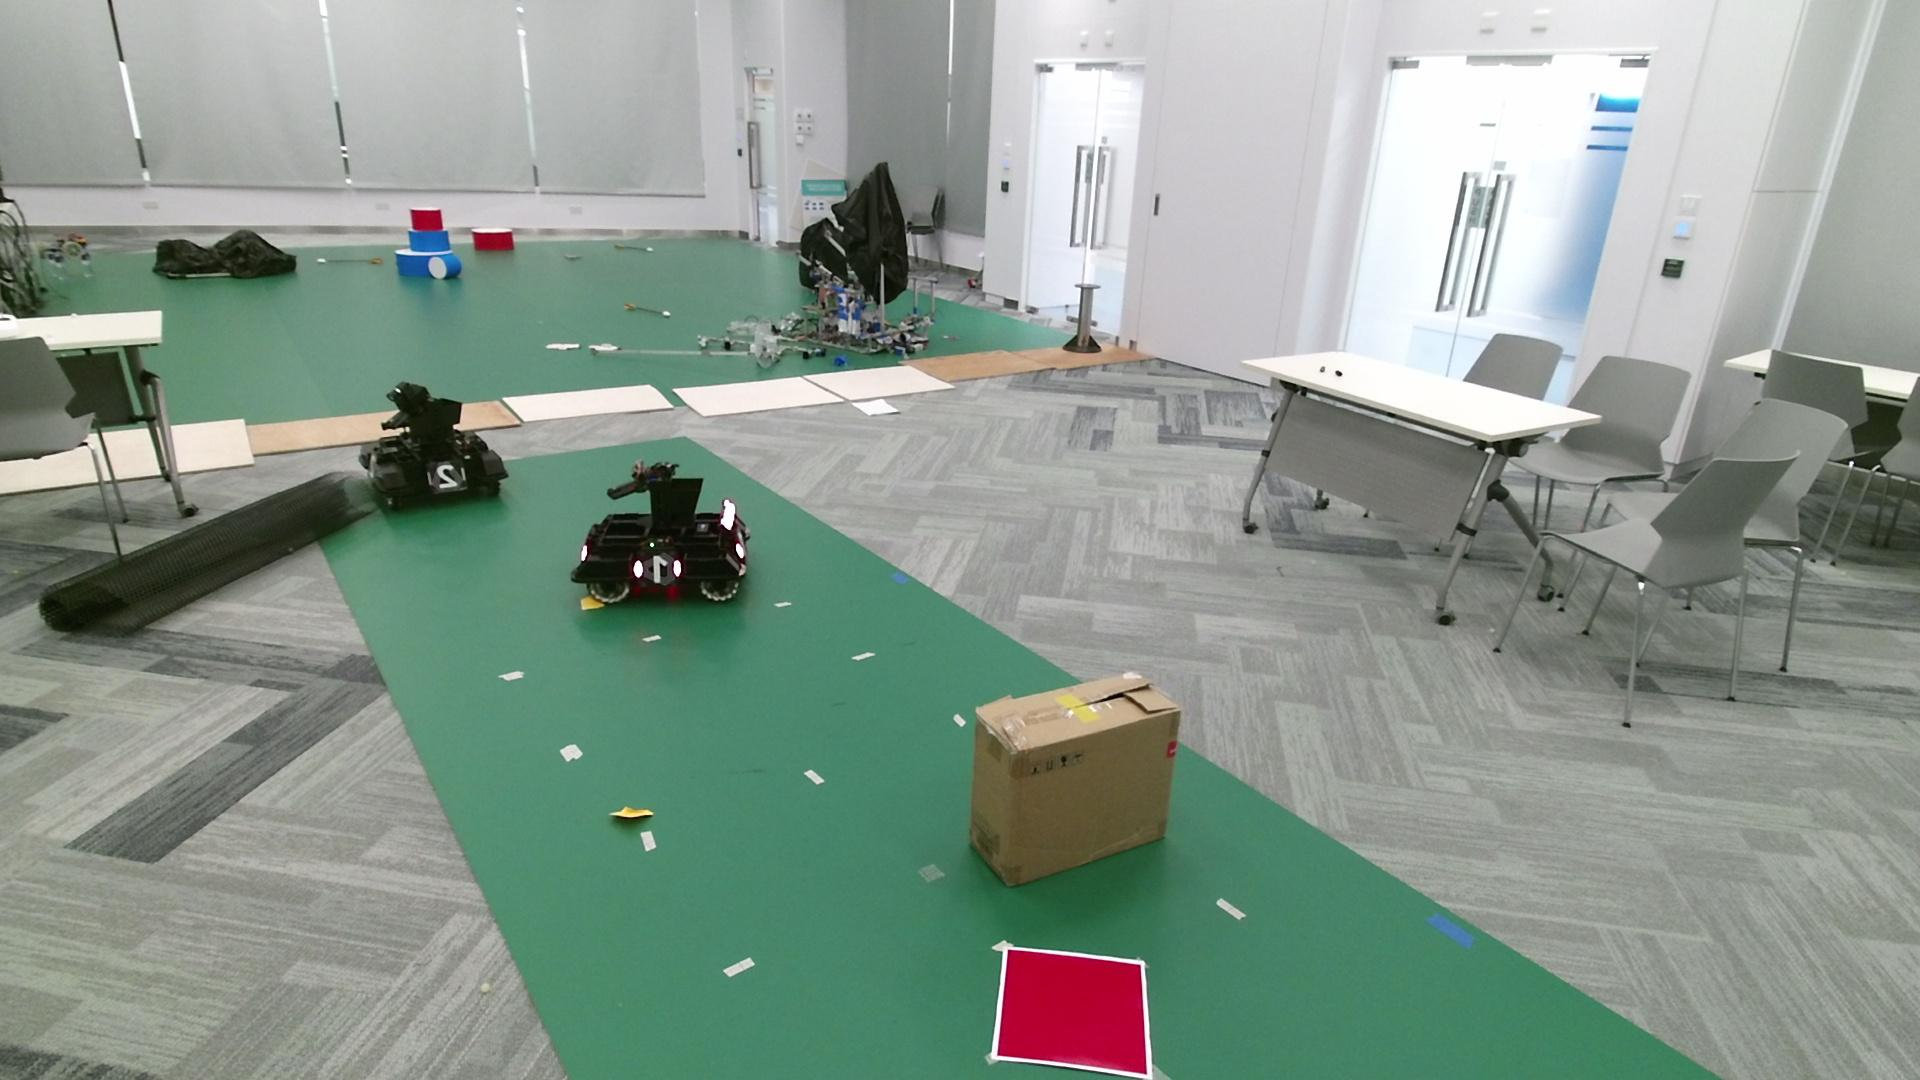robot: (570, 458, 752, 607), (357, 380, 508, 512)
